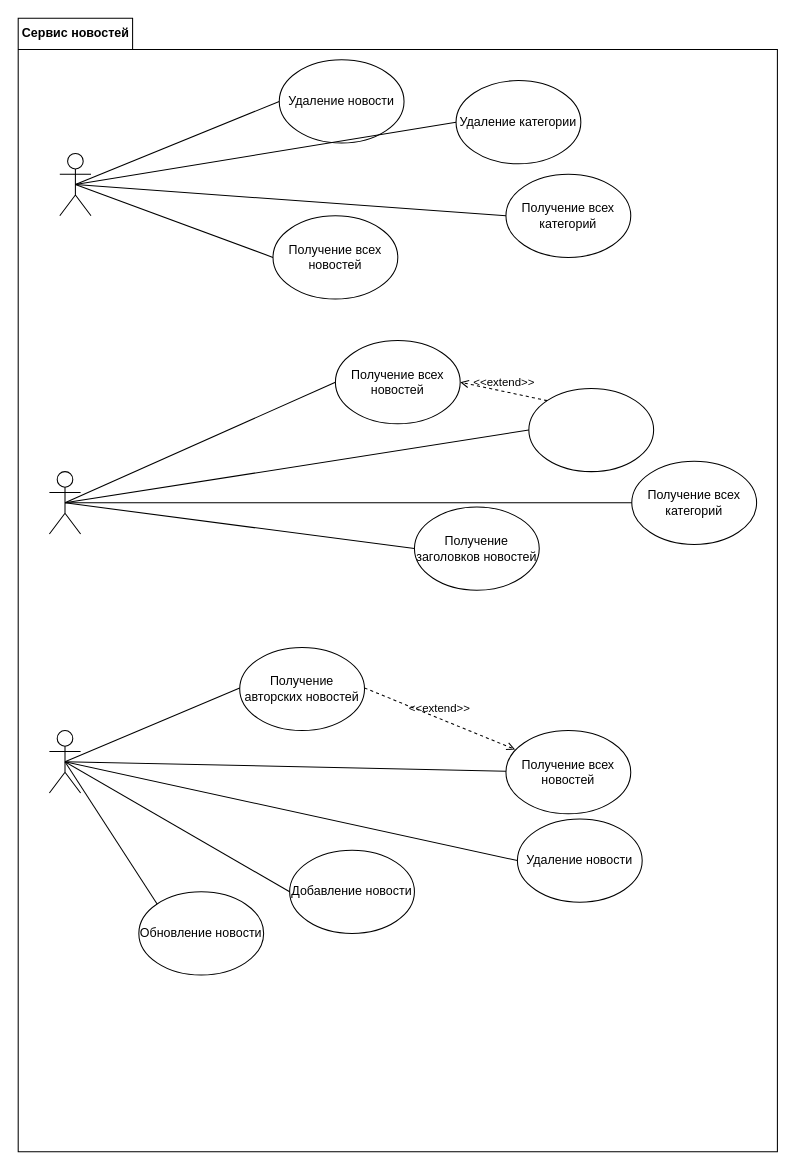
Image size: 796x1170. Some labels were removed from this diagram. The shapes that lost their labels are listed below. From the top down, each one's box as (x1, y1, x2, y2) in pixels, then its label:
(59, 152, 91, 216): Администратор
(528, 387, 654, 472): Получение хороших новостей
(48, 471, 81, 534): Читатель
(48, 730, 81, 793): Автор
